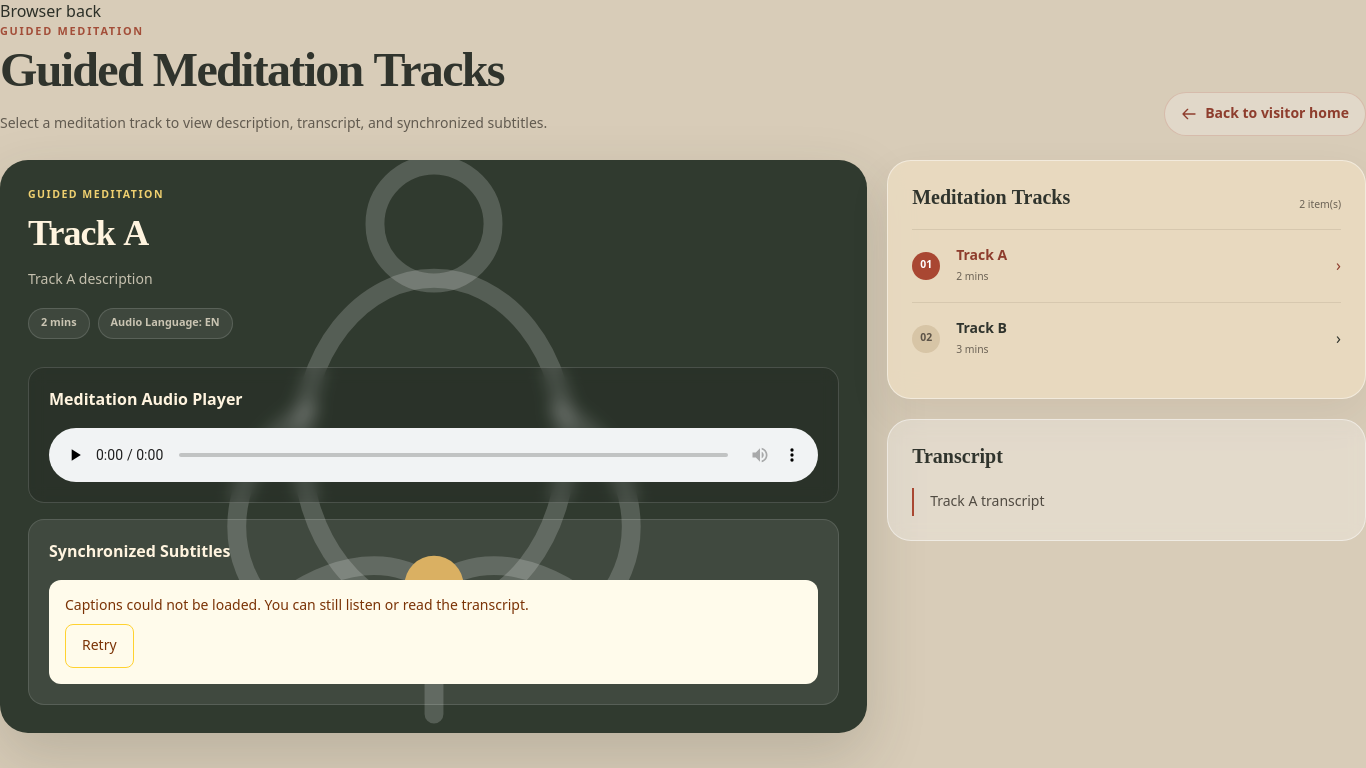
Test: Meditation flow › keeps audio available when subtitles fail and allows a subtitle-only retry
Expected: the element named "Meditation Audio Player: Track A" is shown, [49,428,818,482]
Expected: the message shows "Captions could not be loaded", [65,595,529,616]
Step 1. Click the button "Retry" → [99, 646], box [65,624,134,668]
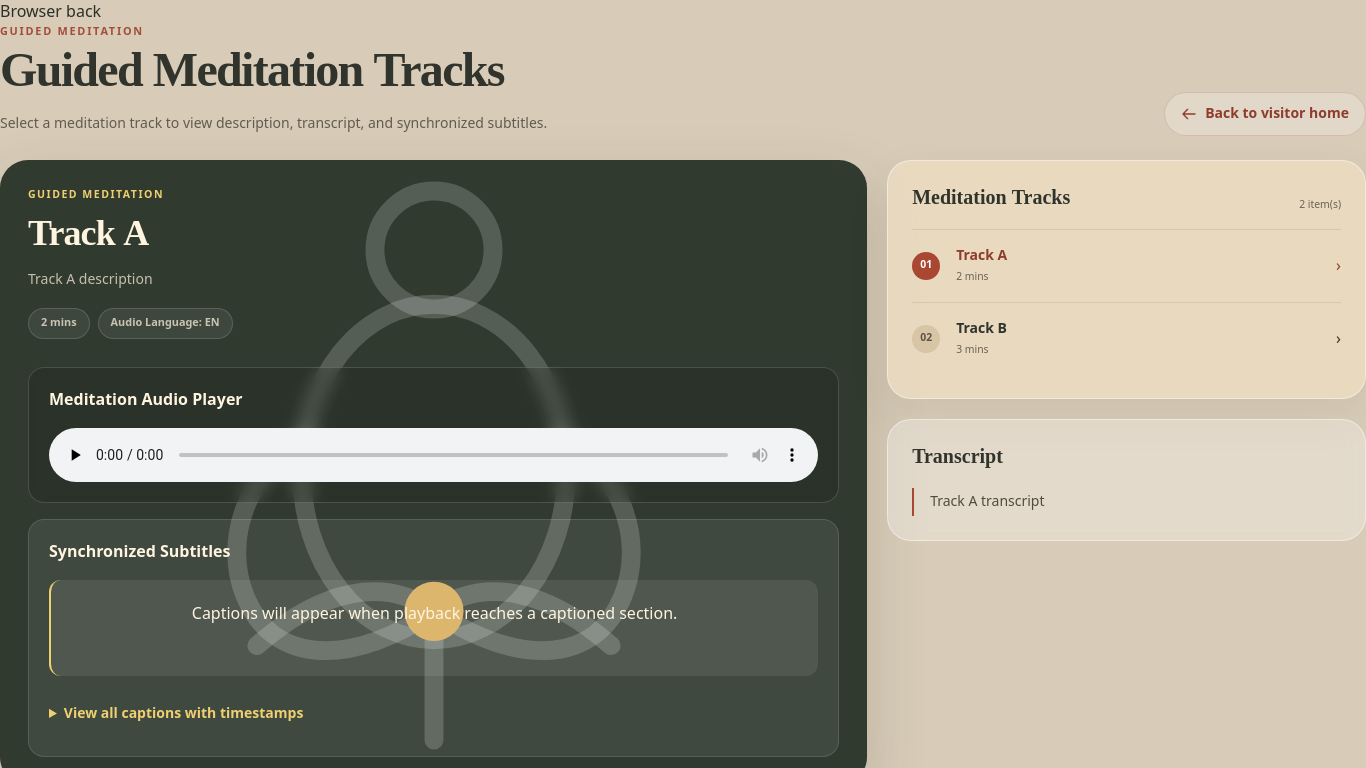
Expected: the heading "View all captions with timestamps" is shown, [64,703,303,724]
